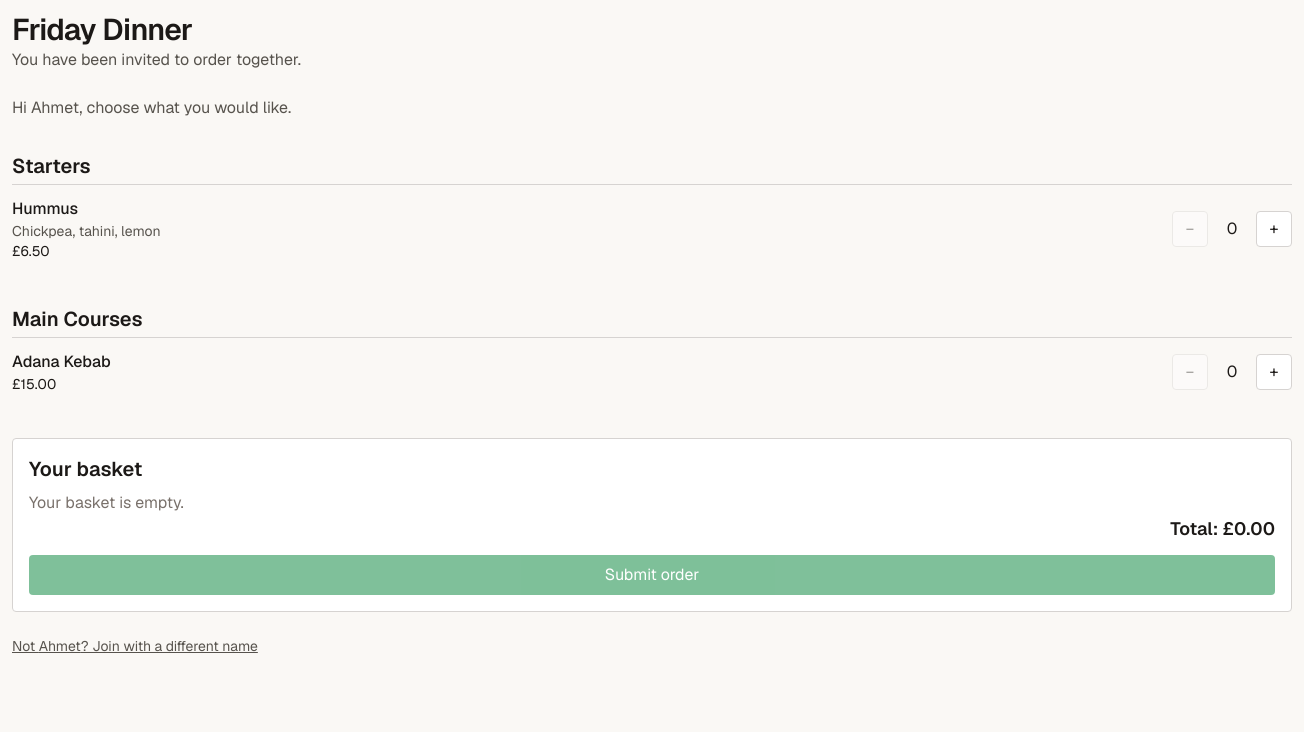
Test: JoinView › remembers a returning guest and lets them switch name
Expected: the text "Hummus" is shown, [12,198,78,219]
Click the button "Not Ahmet? Join with a different name".
click(135, 646)  # box [12,636,258,656]
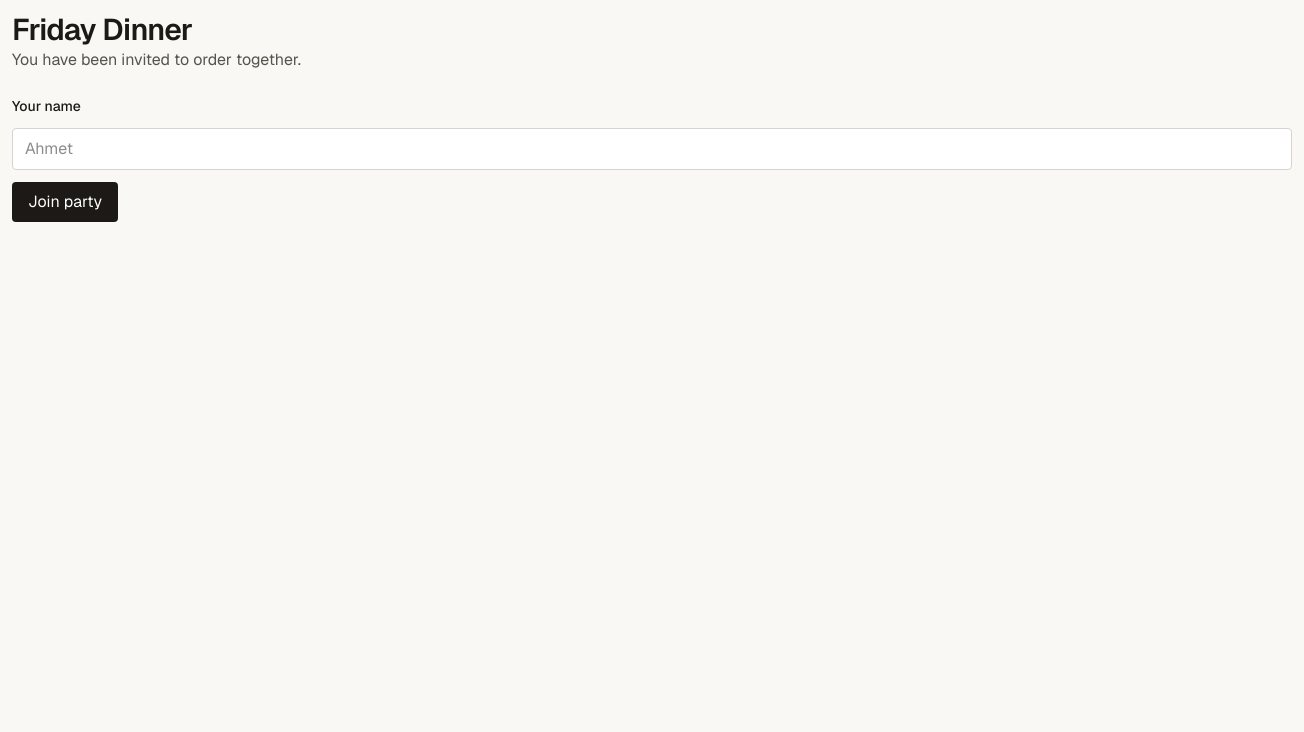
Expected: the field labelled "Your name" is shown, [12,128,1292,170]
